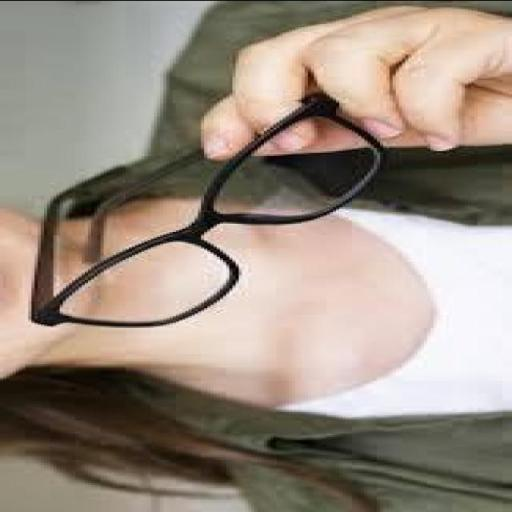glasses: (8, 86, 419, 342)
